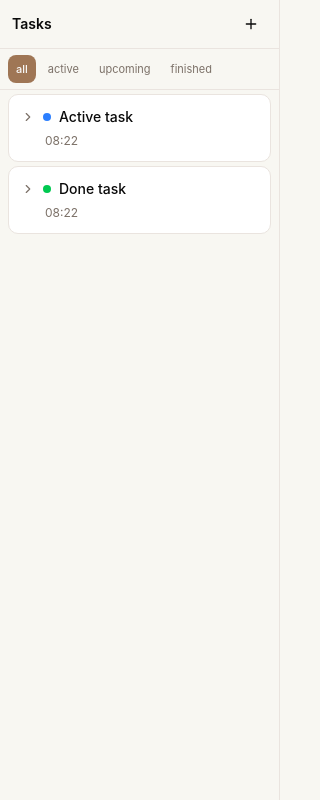
Test: RoutinesSidebar › filters routines by tab — clicking 'finished' hides in_progress routines
expect the text "Active task" is shown: met, box 59,107 -> 133,127
expect the text "Done task" is shown: met, box 59,179 -> 126,199
What coordinates should you click on to do the following:
click the button "finished"
I would click on:
 (191, 69)
Its box is 163,55 -> 220,83.
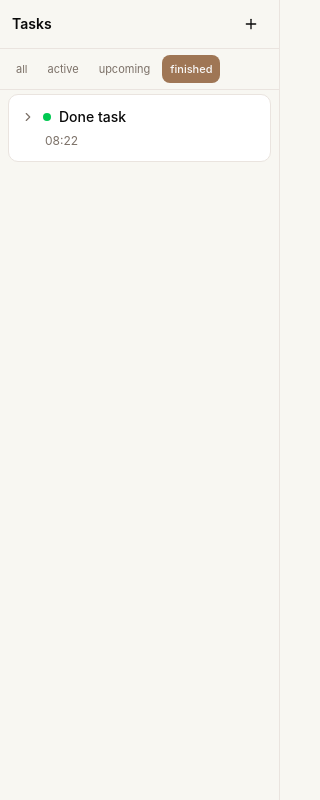
expect the text "Done task" is shown: met, box 59,107 -> 126,127
expect the button "Active task" is gone: met
